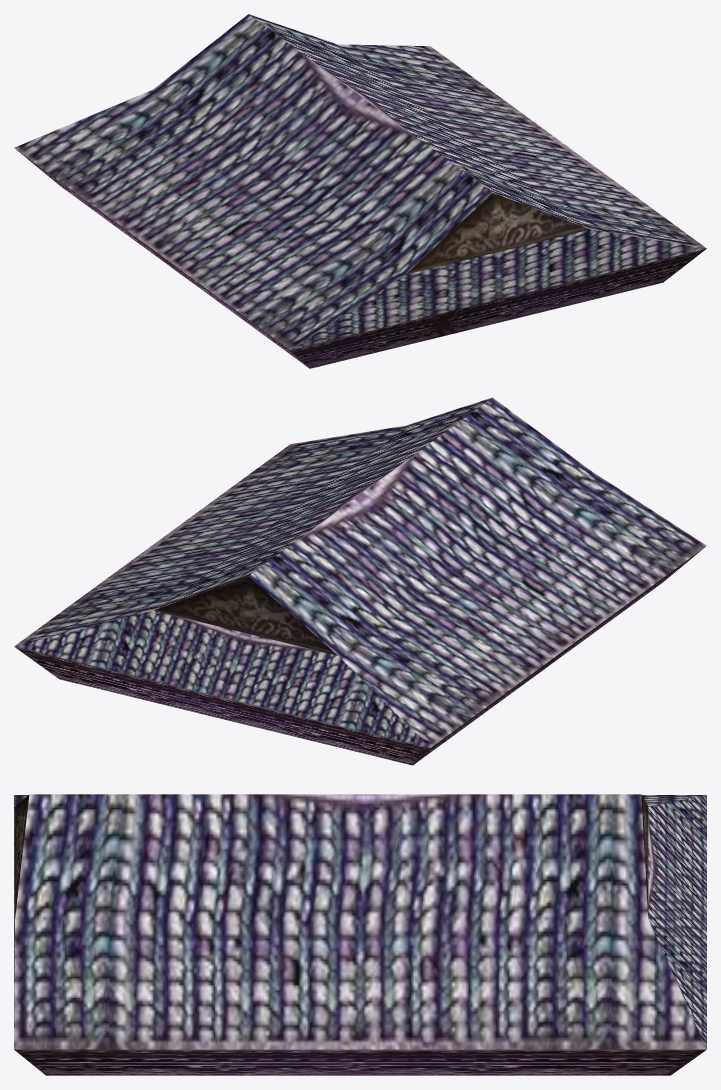
3 renders of one model, top to bottom at view 1: azimuth 30°, elevation 25°; view 2: azimuth 150°, elevation 25°; view 3: azimuth 270°, elevation 25°, orthographic. The views are drawn at different scales.
Parts seen in each view (by area): view 1: Box247; view 2: Box247; view 3: Box247.
Part boxes in pixels (x1=…): Box247: x1=14, y1=14, x2=706, y2=368; Box247: x1=14, y1=397, x2=706, y2=765; Box247: x1=14, y1=794, x2=706, y2=1075.
Size of the model in its own units: 298 by 94.38 by 343.
